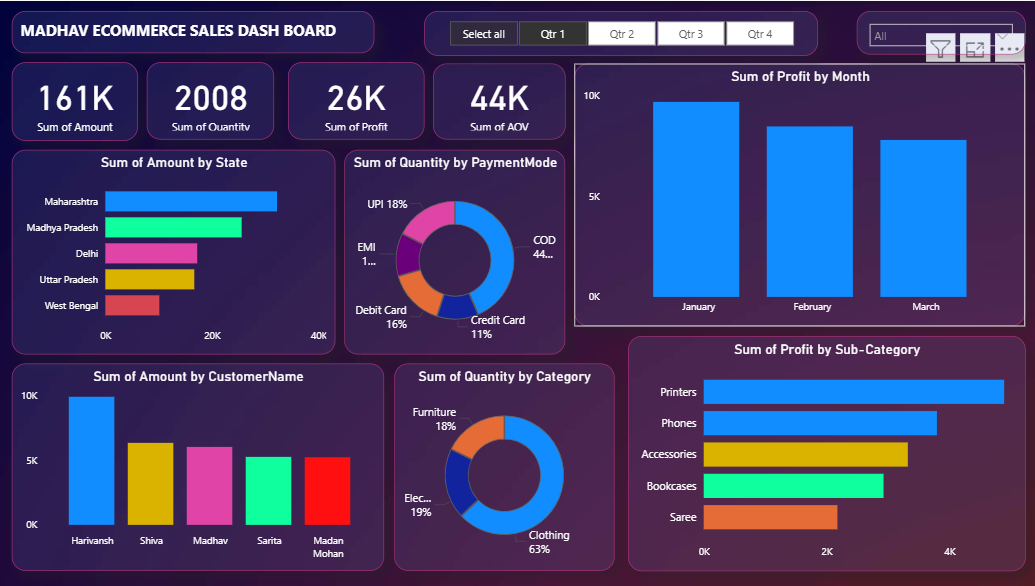

The dashboard page shown, as its layout file describes it:
{"tool":"powerbi","page":{"name":"Page 1","canvas":[1280,720],"ordinal":0},"visuals":[{"type":"textbox","box":[16.9,12.3,446.3,52.3],"z":0},{"type":"columnChart","fields":{"Category":["Orders.Order Date.Variation.Date Hierarchy.Month"],"Y":["Details.Profit"]},"box":[709.4,76.9,555.5,323.2],"z":1000},{"type":"clusteredBarChart","fields":{"Category":["Details.Sub-Category"],"Y":["Details.Profit"]},"box":[775.6,412.4,489.4,289.3],"z":2000},{"type":"donutChart","fields":{"Y":["Details.Quantity"],"Series":["Details.PaymentMode"]},"box":[426.3,183.1,272.4,252.4],"z":3000},{"type":"donutChart","fields":{"Category":["Details.Category"],"Y":["Details.Quantity"]},"box":[487.8,446.3,270.8,255.4],"z":4000},{"type":"card","fields":{"Values":["Details.Amount"]},"box":[16.9,75.4,155.4,96.9],"z":5000},{"type":"card","fields":{"Values":["Details.Quantity"]},"box":[183.1,75.4,157,95.4],"z":6000},{"type":"card","fields":{"Values":["Details.Profit"]},"box":[357,75.4,167.7,95.4],"z":7000},{"type":"card","fields":{"Values":["Details.AOV"]},"box":[535.5,76.9,163.1,93.9],"z":8000},{"type":"clusteredBarChart","fields":{"Y":["Details.Amount"],"Category":["Orders.State"]},"box":[16.9,183.1,398.6,252.4],"z":9000},{"type":"columnChart","fields":{"Category":["Orders.CustomerName"],"Y":["Details.Amount"]},"box":[16.9,446.3,458.6,255.4],"z":10000},{"type":"slicer","fields":{"Values":["Orders.Order Date.Variation.Date Hierarchy.Quarter"]},"box":[524.7,12.3,484.7,55.4],"z":11000},{"type":"slicer","fields":{"Values":["Orders.State"]},"box":[1057.2,12.3,207.7,53.9],"z":12001}]}

Visuals, with their boxes in screenshot pixels (x1, y1, x2, y2), scaled from the page's 1280x720 canvas onto the 1035x586 screenshot:
textbox: bbox=(14, 10, 375, 53)
columnChart - Orders.Order Date.Variation.Date Hierarchy.Month x Details.Profit: bbox=(574, 63, 1023, 326)
clusteredBarChart - Details.Sub-Category x Details.Profit: bbox=(627, 336, 1023, 571)
donutChart - Details.Quantity x Details.PaymentMode: bbox=(345, 149, 565, 354)
donutChart - Details.Category x Details.Quantity: bbox=(394, 363, 613, 571)
card - Details.Amount: bbox=(14, 61, 139, 140)
card - Details.Quantity: bbox=(148, 61, 275, 139)
card - Details.Profit: bbox=(289, 61, 424, 139)
card - Details.AOV: bbox=(433, 63, 565, 139)
clusteredBarChart - Details.Amount x Orders.State: bbox=(14, 149, 336, 354)
columnChart - Orders.CustomerName x Details.Amount: bbox=(14, 363, 384, 571)
slicer - Orders.Order Date.Variation.Date Hierarchy.Quarter: bbox=(424, 10, 816, 55)
slicer - Orders.State: bbox=(855, 10, 1023, 54)
